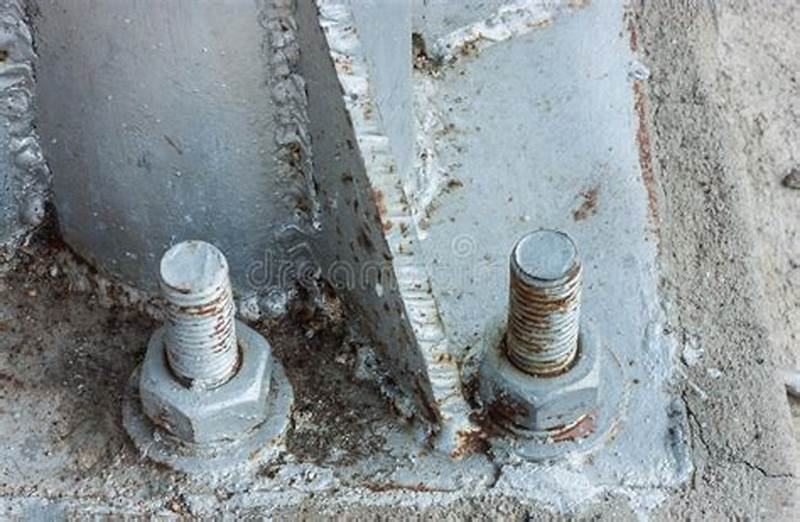bolt_b: (132, 311, 274, 444), (469, 300, 603, 428)
